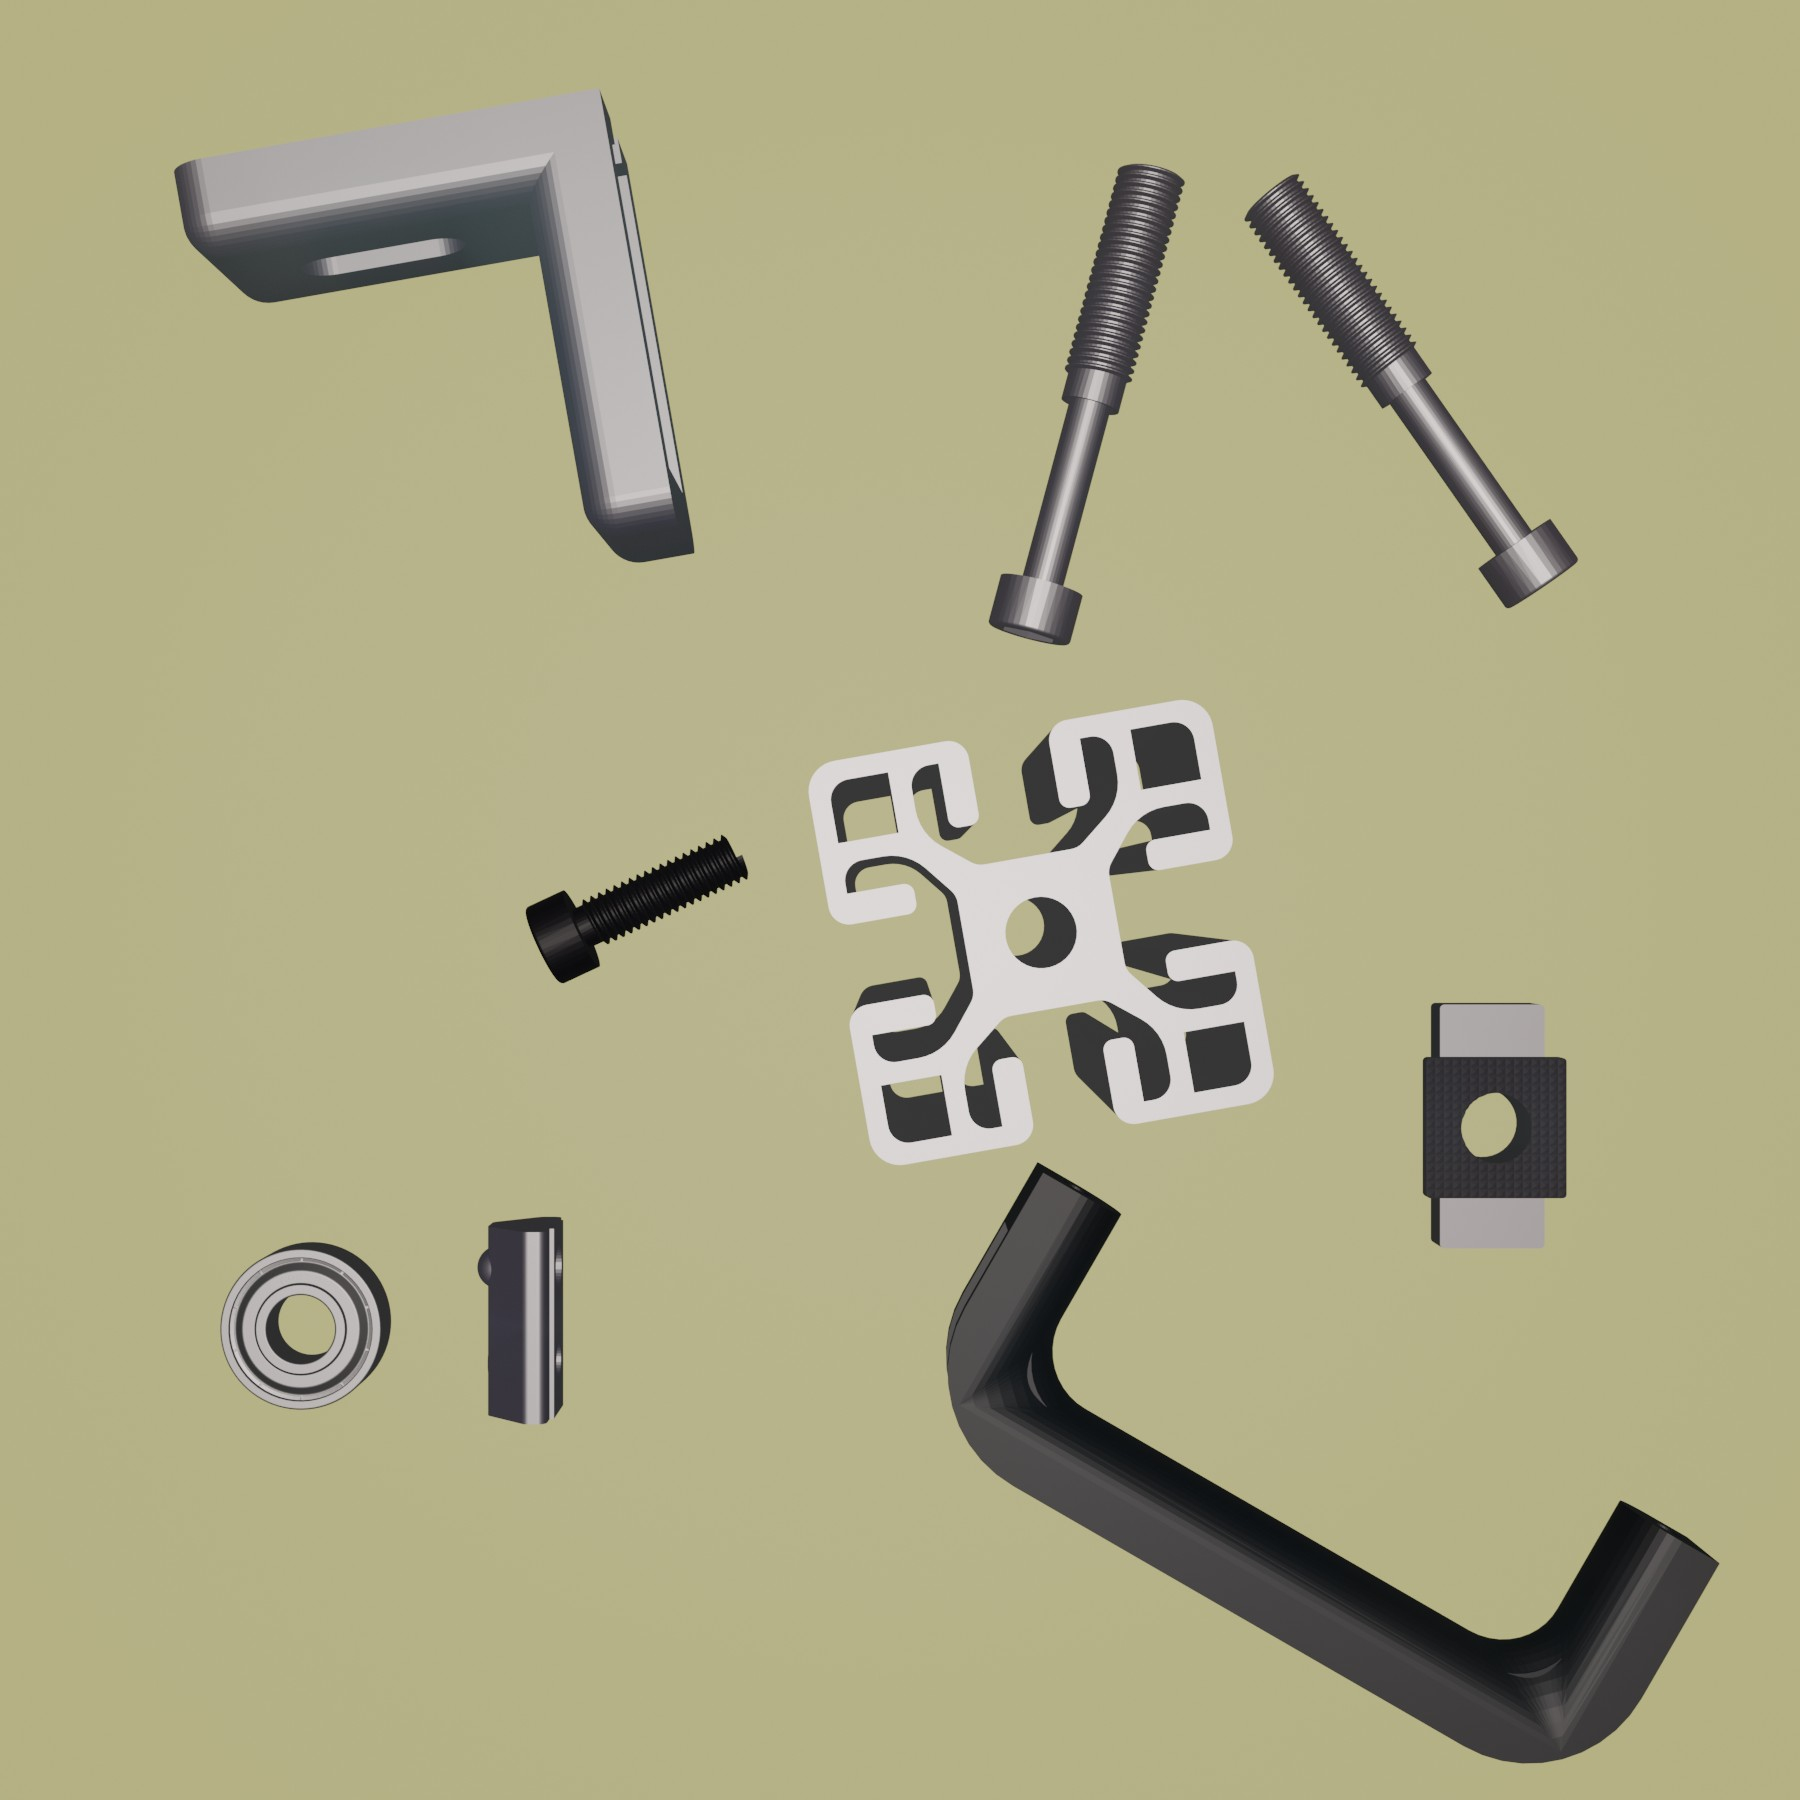Aluminium Extension: (806, 696, 1279, 1170)
Ball Bearing: (219, 1240, 397, 1414)
Multiwinkel: (170, 86, 697, 569)
Pull Handle: (945, 1157, 1724, 1765)
Shoulder Socket Head Cap Screw: (1240, 168, 1582, 612), (982, 158, 1188, 651)
Socket Head Cap Screw: (523, 831, 747, 987)
T Nut Square: (1419, 991, 1574, 1254)
T Spring Nut: (475, 1212, 574, 1431)
